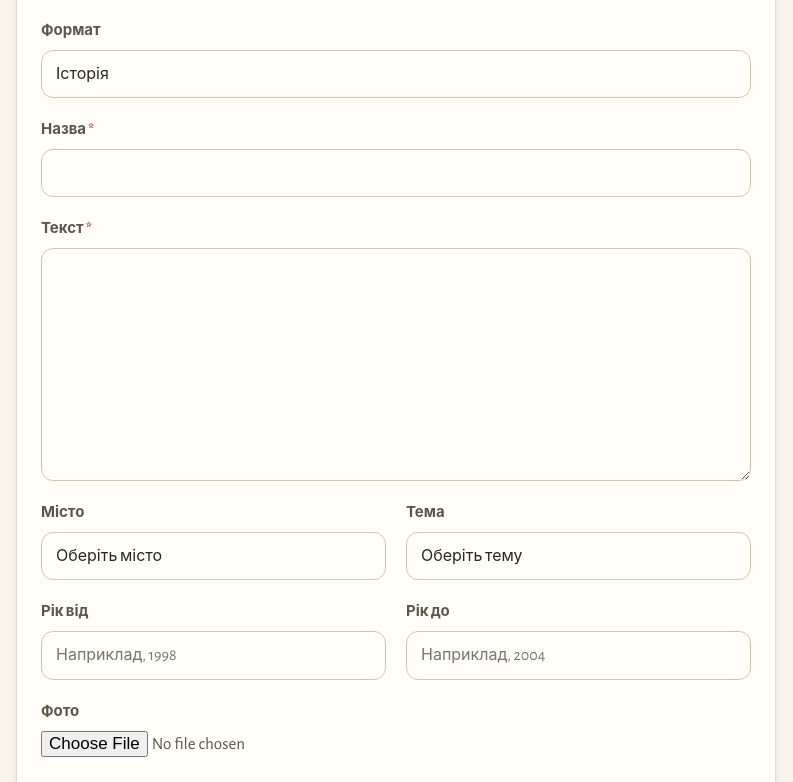
Test: MemoryFormPage › shows recipe fields only when the recipe type is selected
Expected: the field labelled "Інгредієнти" is not shown
Select "Рецепт" in the dropdown labelled "Формат". click: {"x": 396, "y": 74}
box: [41,50,751,98]
(page scrolled)
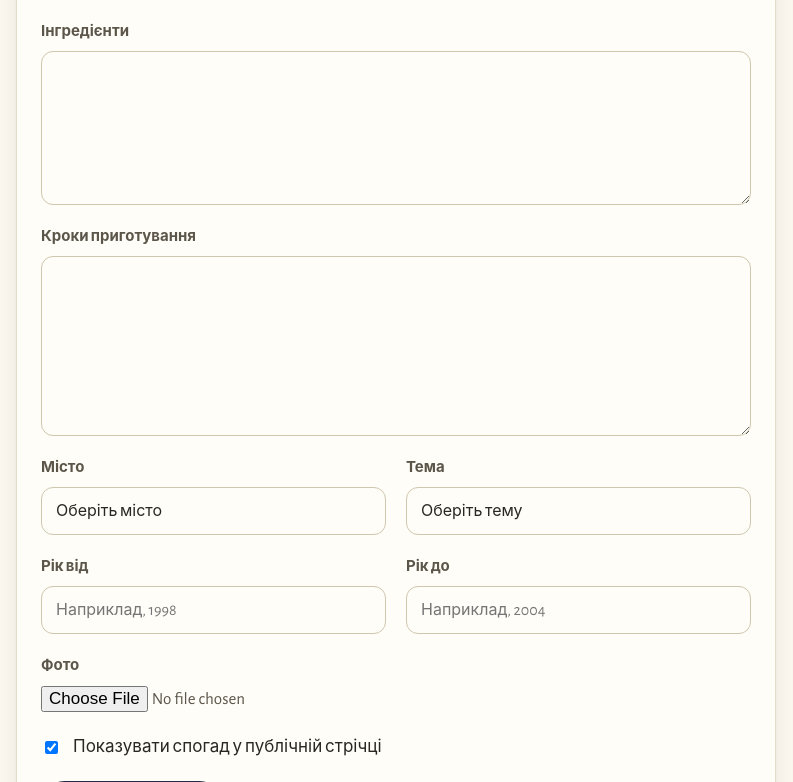
Expected: the text box labelled "Інгредієнти" is shown, [41,51,751,205]
Expected: the text box labelled "Кроки приготування" is shown, [41,256,751,436]
